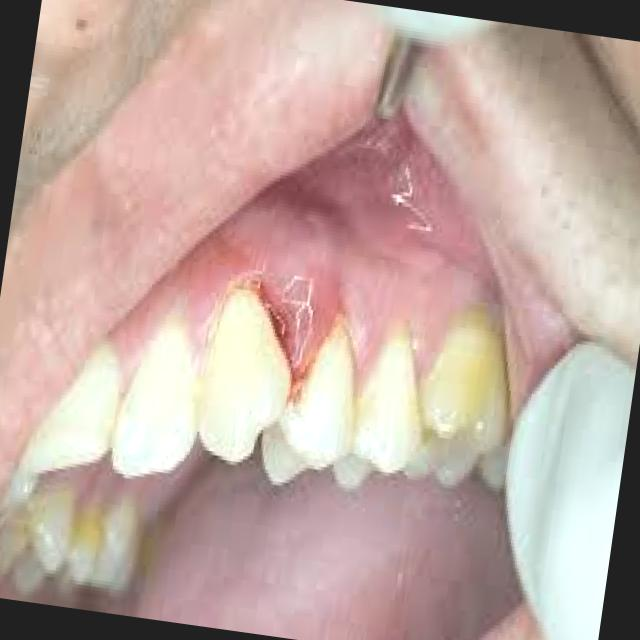abscess: (209, 229, 391, 444)
